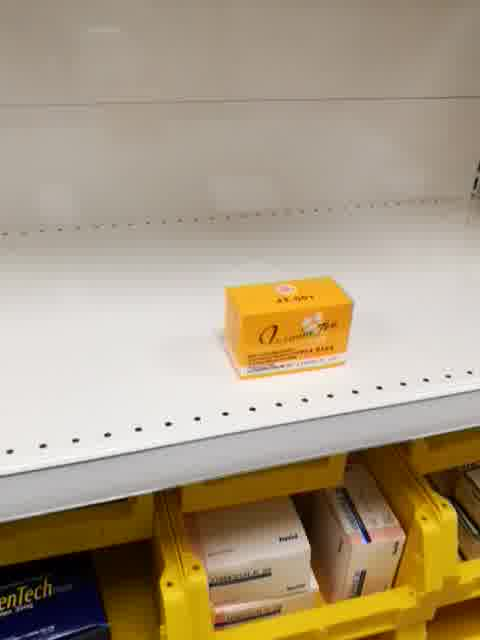jasminetea: (219, 275, 355, 381)
